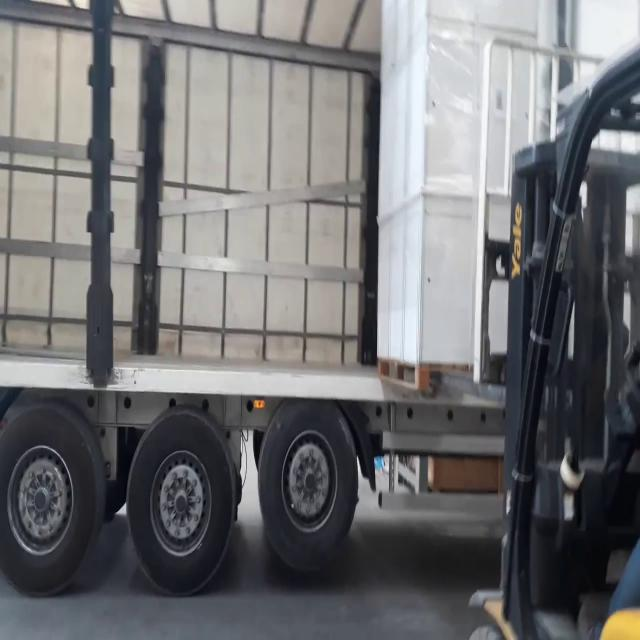Chariot elevateur: (469, 42, 640, 640)
